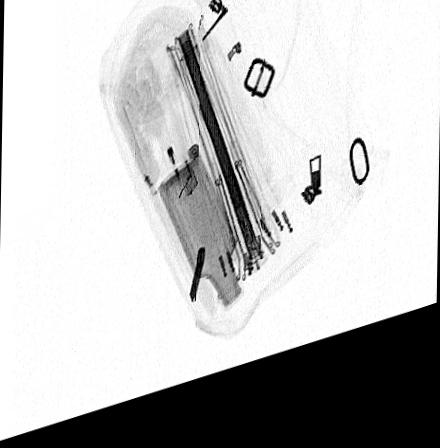Lighter: (146, 103, 199, 211)
